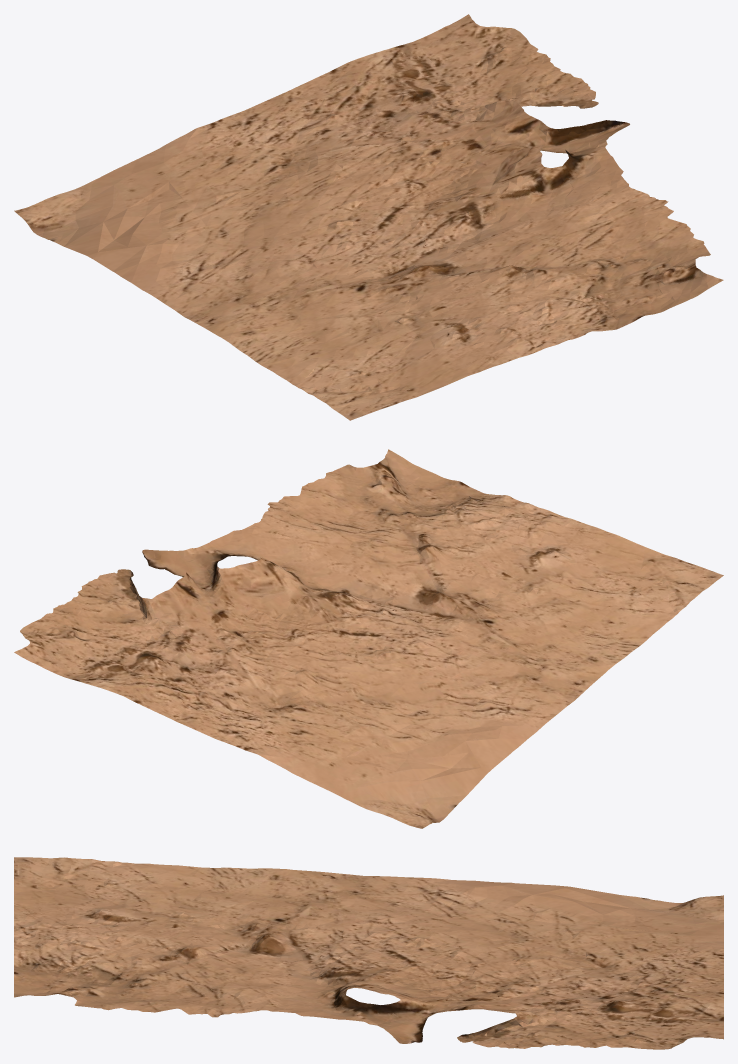
3 views of the same model, one above another, from view 1: azimuth 30°, elevation 25°; view 2: azimuth 150°, elevation 25°; view 3: azimuth 270°, elevation 25° (orthographic). The views are drawn at different scales.
Size of the model in its own units: 3.41 by 0.6373 by 4.18.
2 materials, 2 textured.
